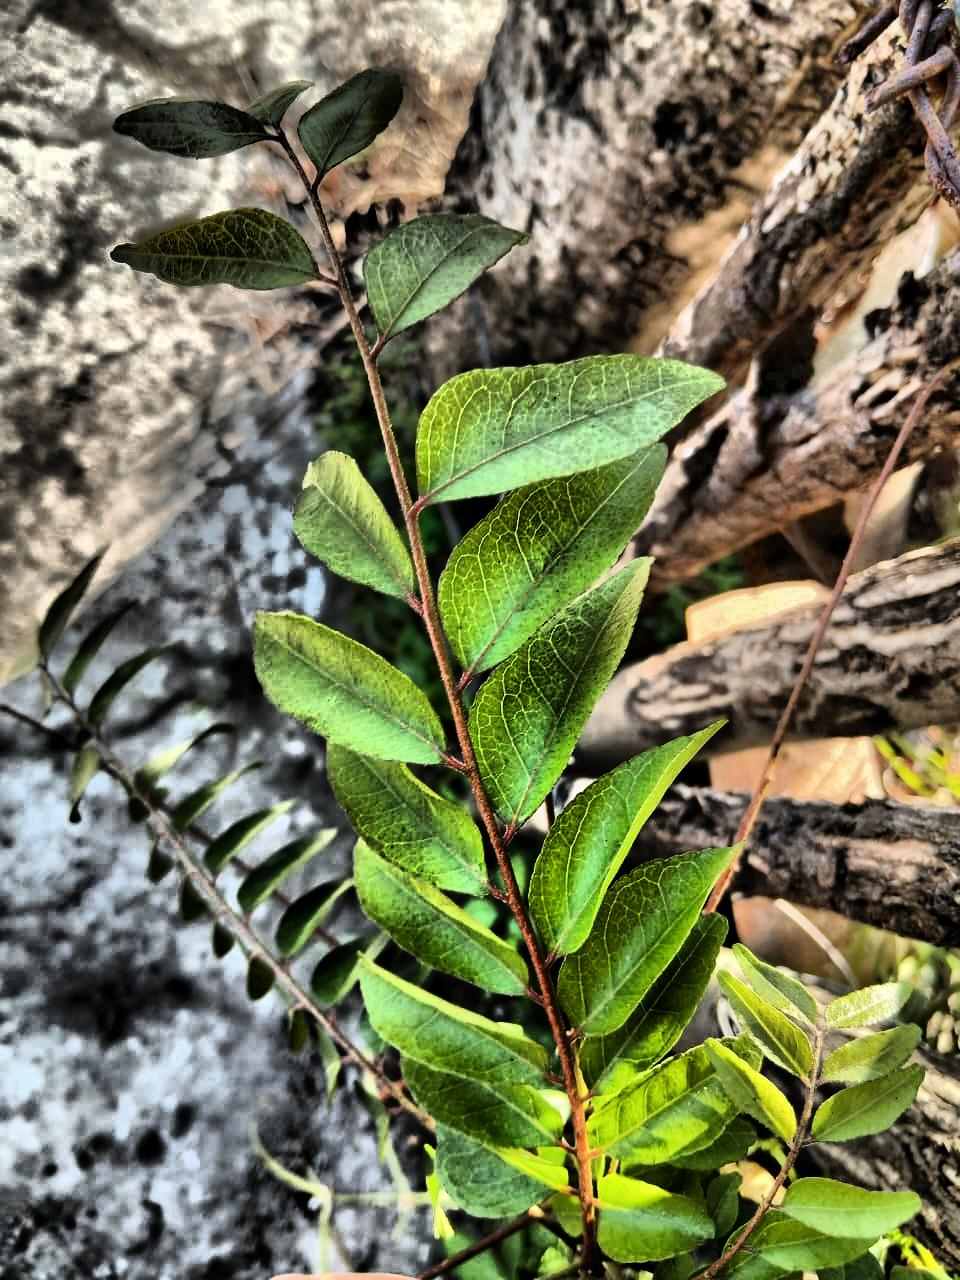daun kari: (112, 70, 911, 1279)
